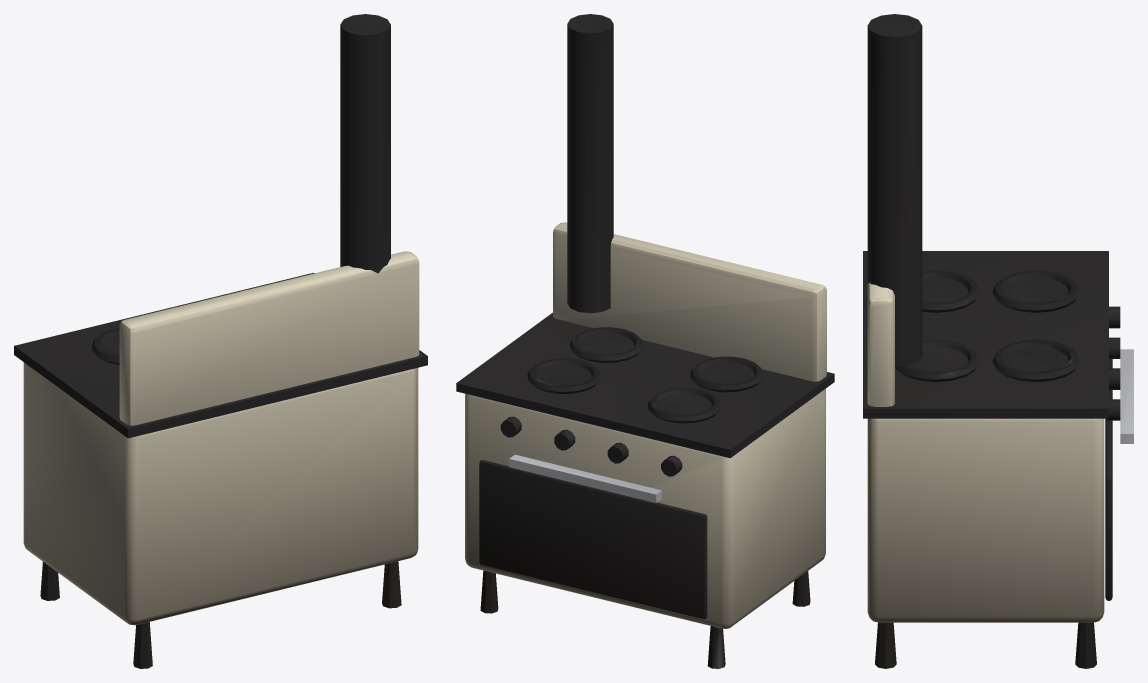
Rendered from Stove.glb.
3 views of the same model, side by side, from view 1: azimuth 30°, elevation 25°; view 2: azimuth 150°, elevation 25°; view 3: azimuth 270°, elevation 25° (orthographic). The views are drawn at different scales.
Visible parts, largest first — view 1: Stove_enamel, Stove_cast_iron; view 2: Stove_cast_iron, Stove_enamel, Stove_chrome; view 3: Stove_cast_iron, Stove_enamel, Stove_chrome.
Part boxes in pixels (left/top/right/bottom): Stove_enamel: left=23, top=251, right=419, bottom=625; Stove_cast_iron: left=14, top=14, right=427, bottom=668; Stove_cast_iron: left=456, top=14, right=834, bottom=668; Stove_enamel: left=465, top=222, right=826, bottom=628; Stove_chrome: left=509, top=454, right=661, bottom=502; Stove_cast_iron: left=863, top=14, right=1120, bottom=668; Stove_enamel: left=867, top=282, right=1104, bottom=622; Stove_chrome: left=1120, top=349, right=1133, bottom=443.
Bounding box in the file's own units: 4.1 × 7.6 × 2.97.
